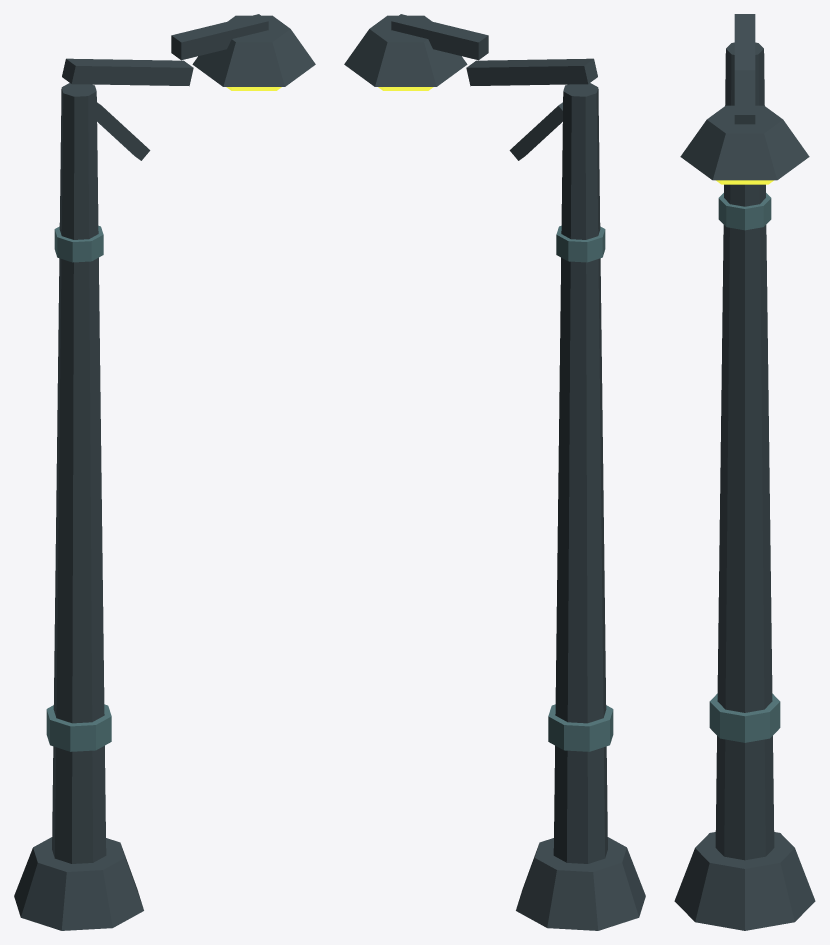
The model's file is Env_LampPost.fbx.
3 views of the same model, side by side, from view 1: azimuth 30°, elevation 25°; view 2: azimuth 150°, elevation 25°; view 3: azimuth 270°, elevation 25° (orthographic). The views are drawn at different scales.
Visible parts, largest first — view 1: Env_LampPost; view 2: Env_LampPost; view 3: Env_LampPost.
Part boxes in pixels (x1,y1,x2,y2): Env_LampPost: (14, 14, 315, 930); Env_LampPost: (344, 14, 645, 930); Env_LampPost: (674, 14, 815, 930).
Size of the model in its own units: 1.15 by 0.48 by 3.31.
